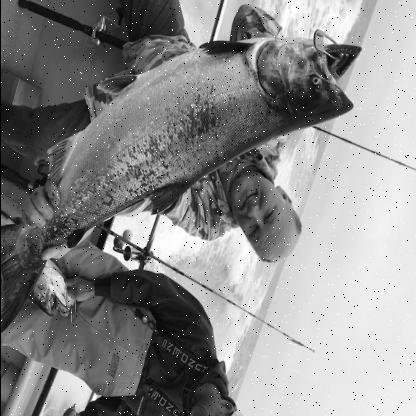fish: (0, 32, 362, 334)
